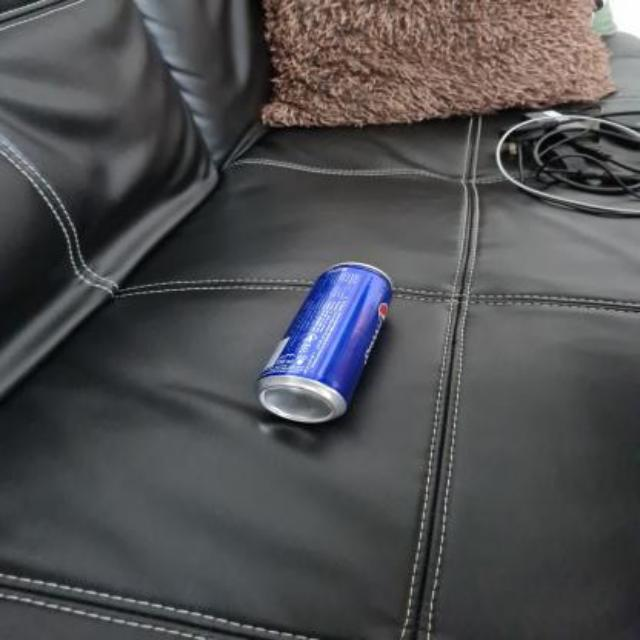metal: (257, 262, 389, 420)
